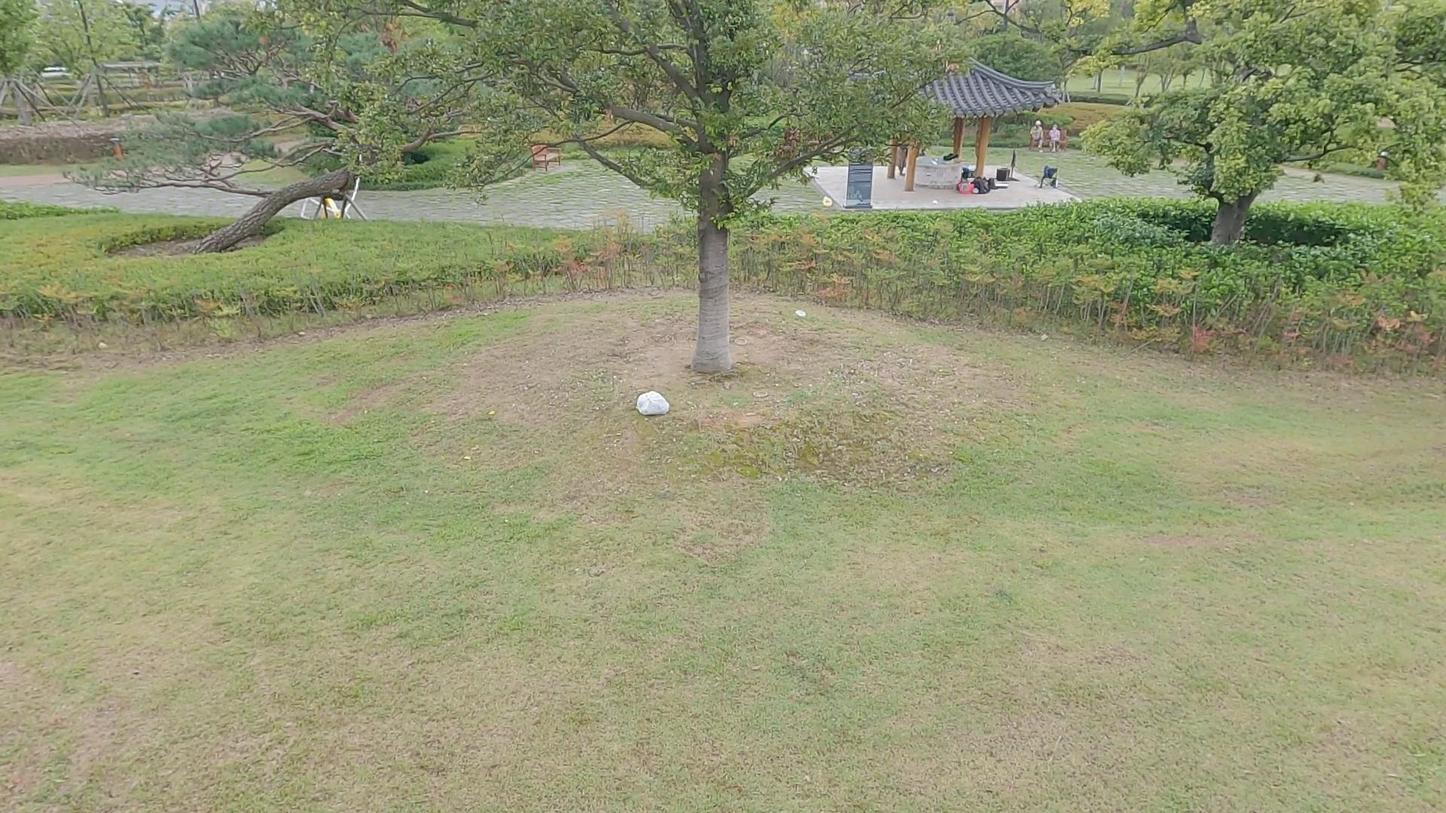trash: (635, 389, 673, 418), (794, 305, 807, 323)
